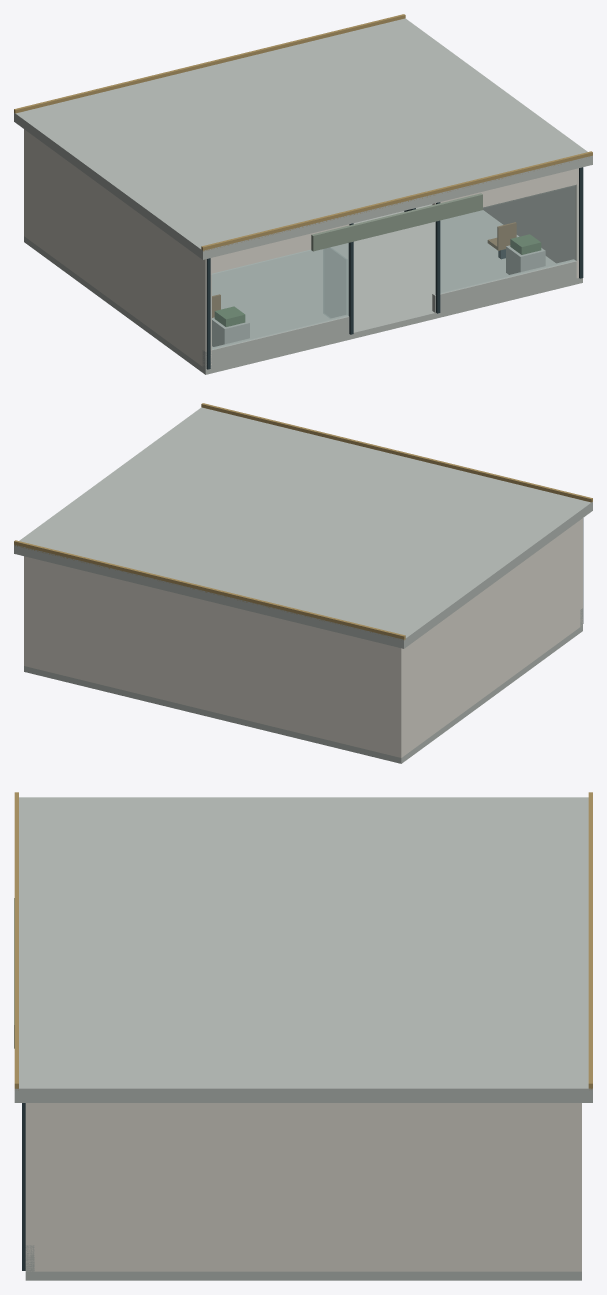
Rendered from management.glb.
3 renders of one model, top to bottom at view 1: azimuth 30°, elevation 25°; view 2: azimuth 150°, elevation 25°; view 3: azimuth 270°, elevation 25°, orthographic. The views are drawn at different scales.
Parts seen in each view (by area): view 1: GC-NK-MANAGEMENT-stone, GC-NK-MANAGEMENT-white, GC-NK-MANAGEMENT-glass, GC-NK-MANAGEMENT-gold, GC-NK-MANAGEMENT-sage, GC-NK-MANAGEMENT-dark, GC-NK-MANAGEMENT-leaf, GC-NK-MANAGEMENT-wood; view 2: GC-NK-MANAGEMENT-stone, GC-NK-MANAGEMENT-white, GC-NK-MANAGEMENT-gold; view 3: GC-NK-MANAGEMENT-stone, GC-NK-MANAGEMENT-white, GC-NK-MANAGEMENT-gold, GC-NK-MANAGEMENT-dark.
Boxes of the visible parts, box(x1,y1,x2,y2) form: GC-NK-MANAGEMENT-stone: box(14, 18, 592, 374); GC-NK-MANAGEMENT-white: box(24, 129, 578, 367); GC-NK-MANAGEMENT-glass: box(211, 185, 578, 349); GC-NK-MANAGEMENT-gold: box(14, 14, 592, 251); GC-NK-MANAGEMENT-sage: box(311, 193, 482, 251); GC-NK-MANAGEMENT-dark: box(206, 167, 583, 369); GC-NK-MANAGEMENT-leaf: box(214, 234, 541, 326); GC-NK-MANAGEMENT-wood: box(212, 222, 516, 317); GC-NK-MANAGEMENT-stone: box(14, 407, 592, 763); GC-NK-MANAGEMENT-white: box(24, 518, 582, 757); GC-NK-MANAGEMENT-gold: box(14, 403, 592, 640); GC-NK-MANAGEMENT-stone: box(14, 797, 592, 1280); GC-NK-MANAGEMENT-white: box(25, 1103, 581, 1271); GC-NK-MANAGEMENT-gold: box(14, 792, 592, 1090); GC-NK-MANAGEMENT-dark: box(22, 1103, 25, 1270).
Bounding box in the file's own units: 12.4 × 4 × 10.41.
